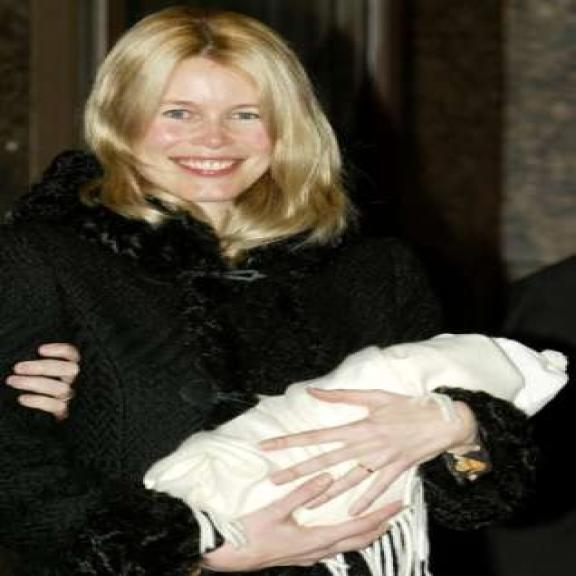face: (122, 45, 293, 205)
